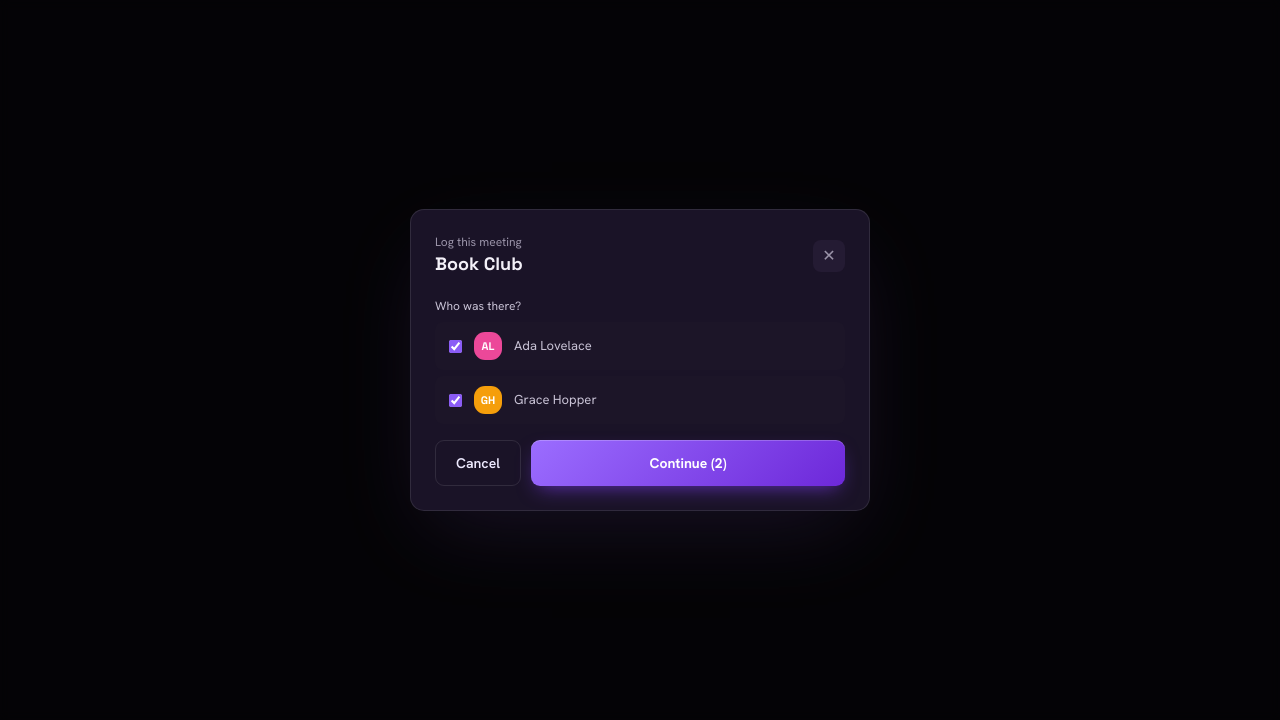
Test: GroupBatchLogModal › disables Continue when everyone is toggled absent
This screenshot has width=1280, height=720.
Expected: the text "Ada Lovelace" is shown, [514,337,592,354]
Step 1. Click the checkbox labelled "AL Ada Lovelace" → {"x": 456, "y": 346}, box [449,340,462,352]
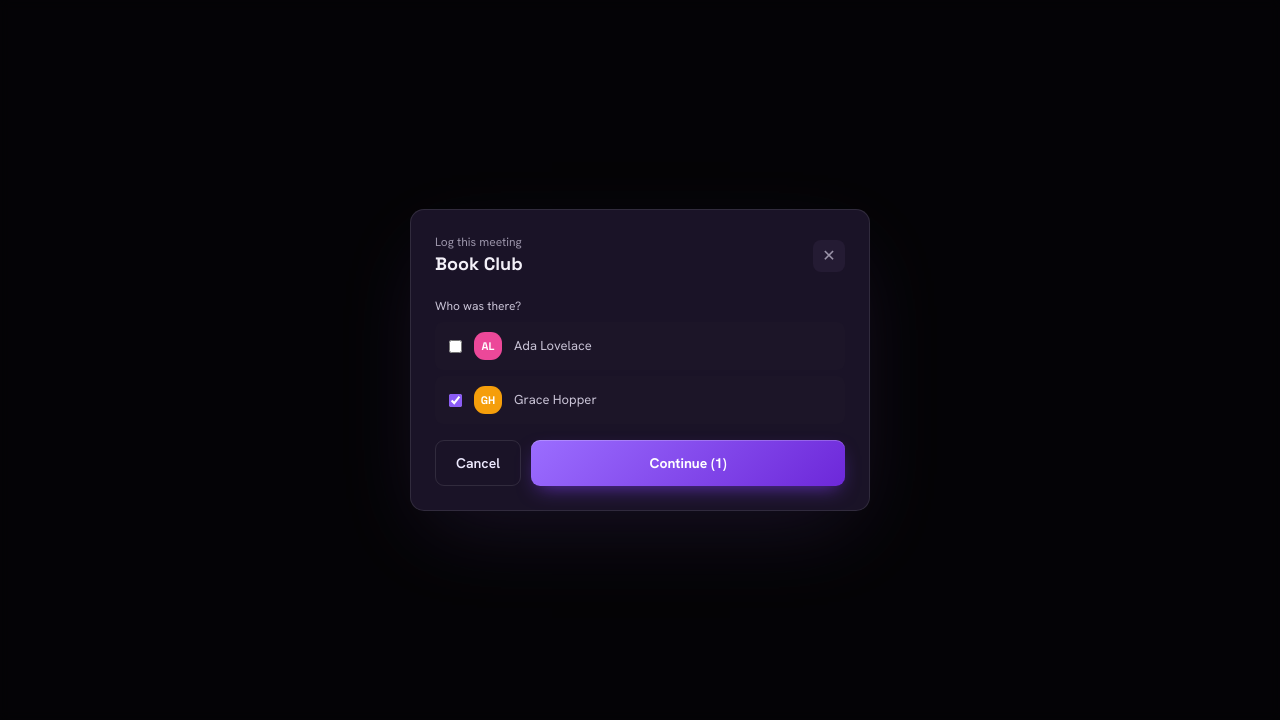
Step 2. Click the checkbox labelled "GH Grace Hopper" → {"x": 456, "y": 400}, box [449,394,462,406]
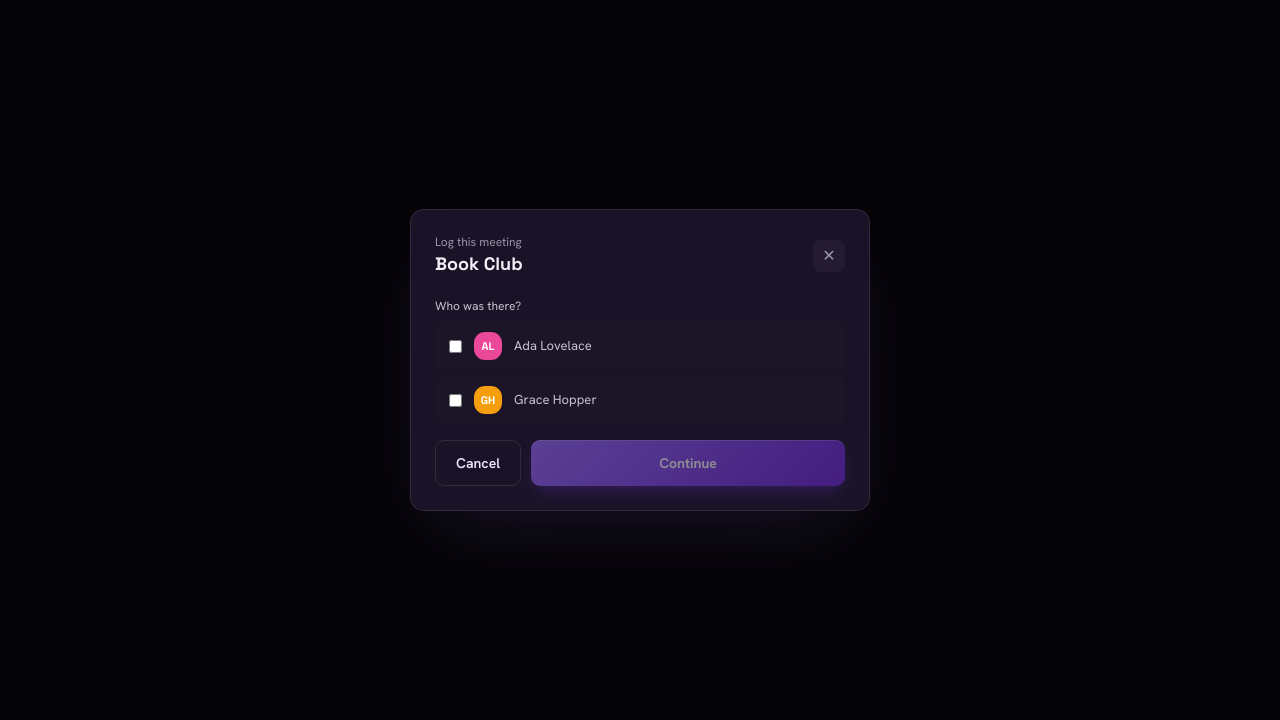
Expected: the button "Continue" is disabled, [531,440,845,486]
